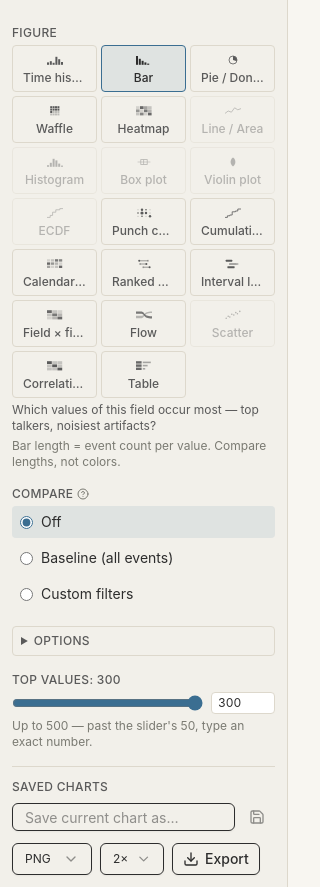
Test: Top-values slider above its own ceiling › commits a drag that ends on the ceiling
(page scrolled)
Expected: the text "Top values: 300" is shown, [12,672,121,687]
Press the mouse on the slider named "Top values" at (108, 703), box [12,695,203,711]
Set the slider named "Top values" to "30" at (124, 703), box [12,695,203,711]
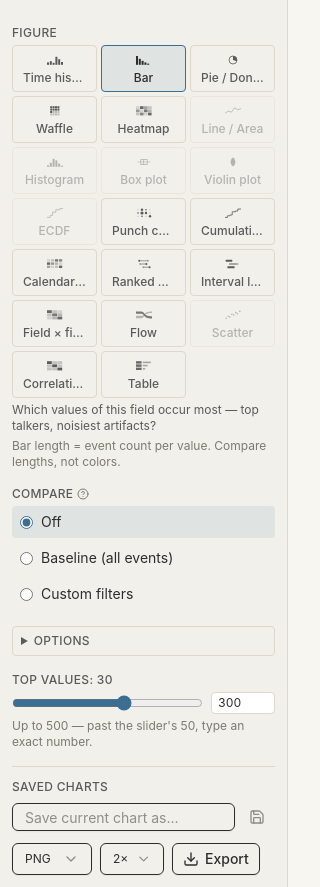
Set the slider named "Top values" to "50" at (195, 703), box [12,695,203,711]
(page scrolled)
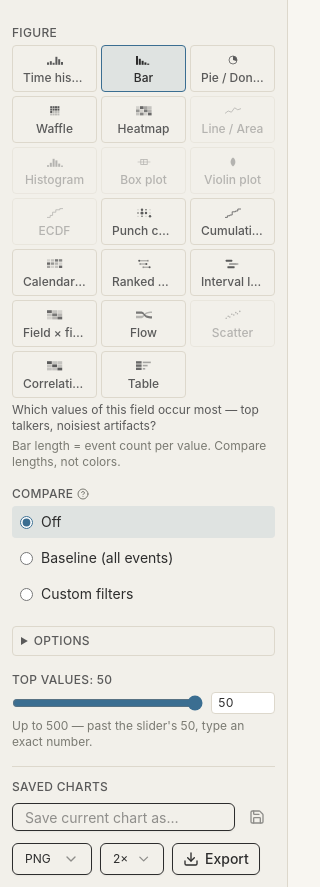
Result: the text "Top values: 50" is shown at [12,672,112,687]
